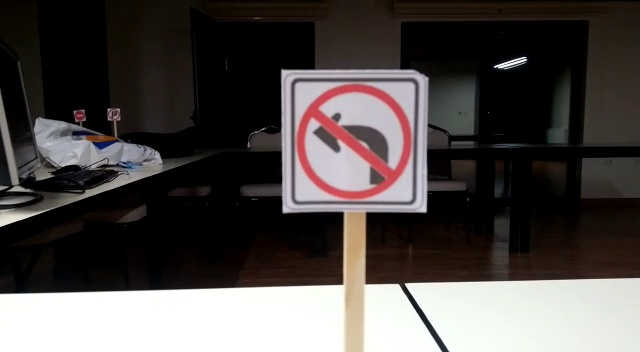sola_donulmez: (292, 86, 419, 202)
